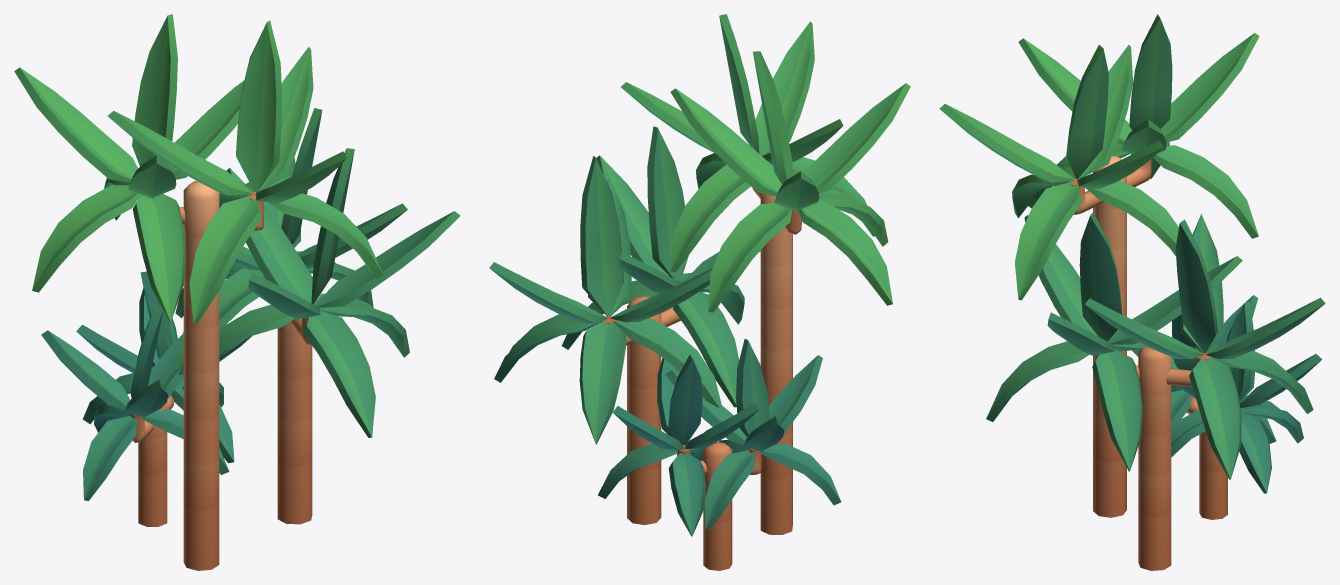
The model's file is house_plants_plants_yucca_plant_rr6s0uzgya.glb.
The picture shows the model from 3 angles, left to right: view 1: azimuth 30°, elevation 25°; view 2: azimuth 150°, elevation 25°; view 3: azimuth 270°, elevation 25°; orthographic projection. The views are drawn at different scales.
Parts seen in each view (by area): view 1: yucca_plant_medium; view 2: yucca_plant_medium; view 3: yucca_plant_medium.
Boxes of the visible parts, <box> form: yucca_plant_medium: <box>14,14,460,570</box>; yucca_plant_medium: <box>489,14,910,570</box>; yucca_plant_medium: <box>939,14,1325,570</box>.
Bounding box in the file's own units: 1.42 × 1.88 × 1.33.
1 material, 1 textured.
